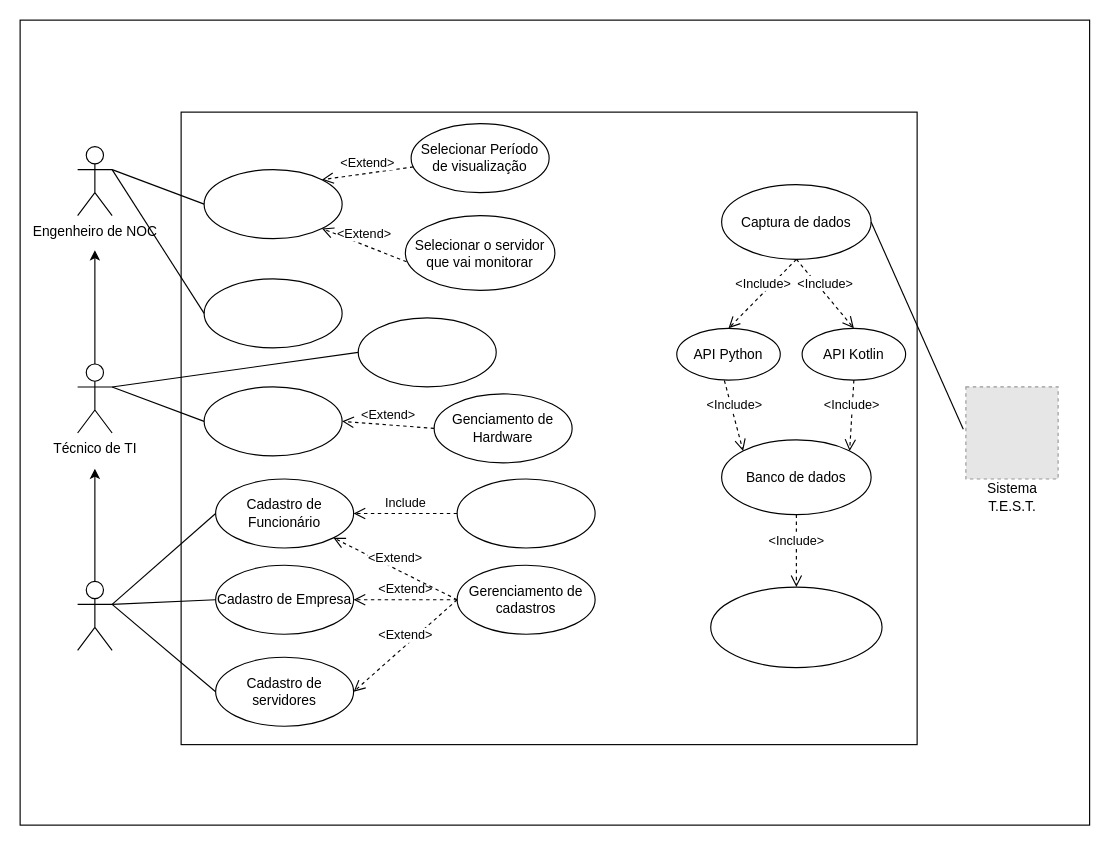
The diagram is 1110 pixels wide and 845 high, and some of its shapes have lost their labels. Grey dashed boxes stand in for pictures. The shapes that lost their labels are listed below. From the top down, each one's box as (x1, y1, x2, y2) in pixels, then its label:
(203, 168, 342, 239): Visualizar Gráficos
(203, 278, 342, 348): Receber Alertas
(357, 317, 496, 387): Suporte/ Chamado
(203, 386, 342, 456): Genciamento de Servidor
(456, 478, 595, 548): Selecionar nível de acesso
(76, 580, 112, 650): Administrador
(710, 586, 882, 668): Dashboards (Plotagem de gráficos)
